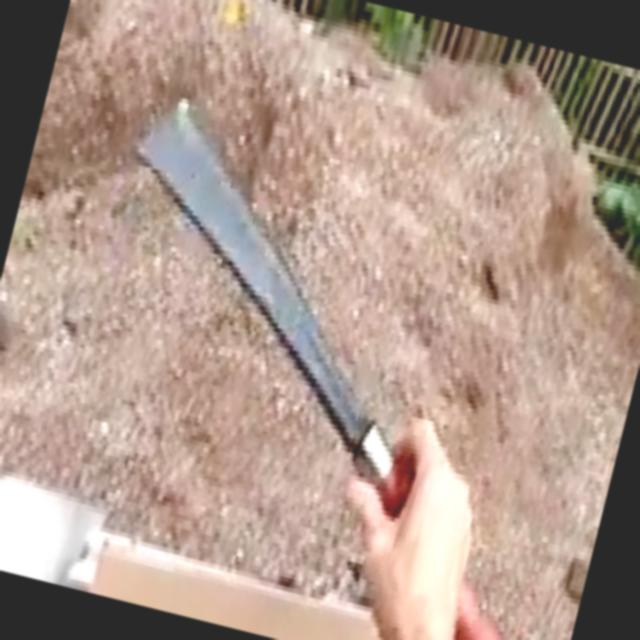eto: (140, 102, 509, 640)
